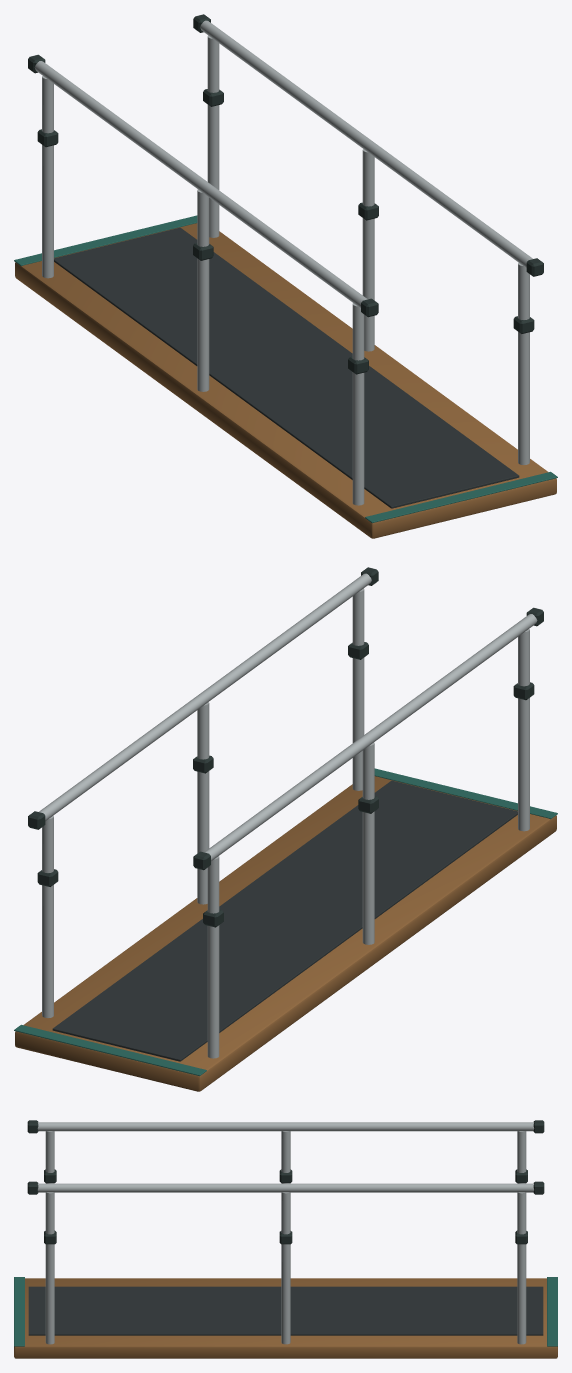
Rendered from parallel-bars.glb.
3 views of the same model, one above another, from view 1: azimuth 30°, elevation 25°; view 2: azimuth 150°, elevation 25°; view 3: azimuth 270°, elevation 25° (orthographic). The views are drawn at different scales.
Visible parts, largest first — view 1: parallel-bars; view 2: parallel-bars; view 3: parallel-bars.
Boxes of the visible parts, box(x1,y1,x2,y2) form: parallel-bars: box(14, 14, 557, 538); parallel-bars: box(14, 567, 557, 1091); parallel-bars: box(14, 1120, 557, 1358).
Size of the model in its own units: 0.9 by 1.05 by 3.
